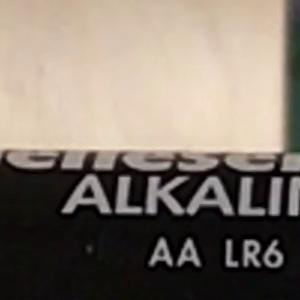ALK: (52, 167, 177, 223)
